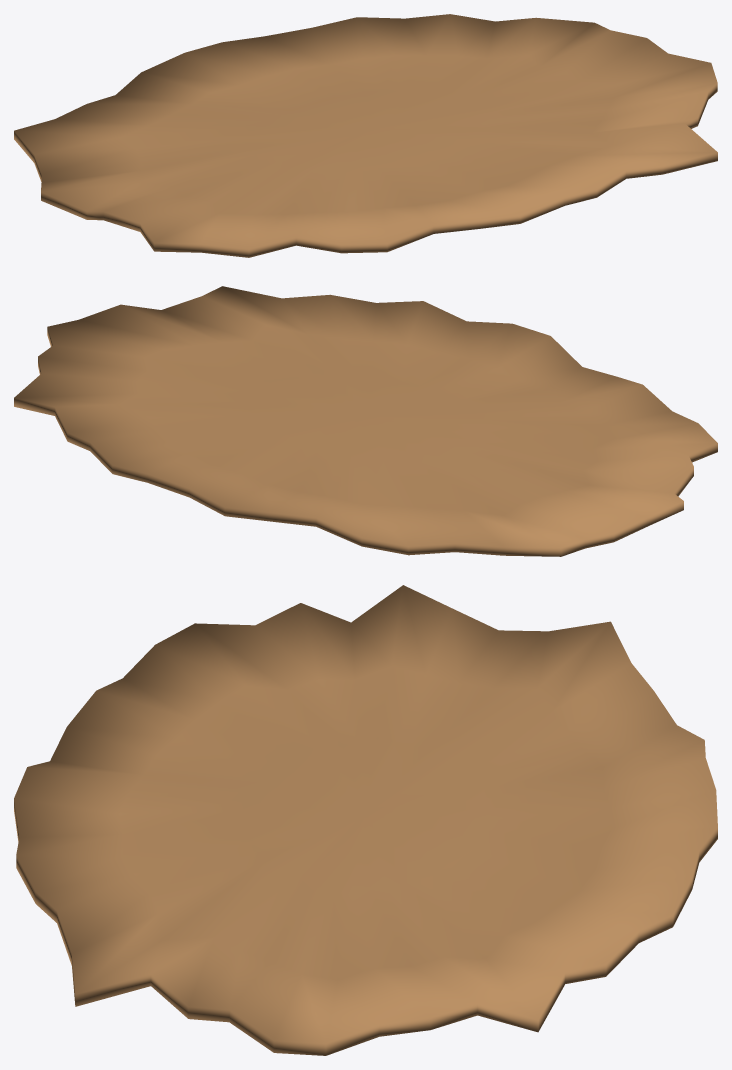
The model's file is w3d_pelt_cured_hide_s.glb.
3 views of the same model, one above another, from view 1: azimuth 30°, elevation 25°; view 2: azimuth 150°, elevation 25°; view 3: azimuth 270°, elevation 25° (orthographic). The views are drawn at different scales.
Parts seen in each view (by area): view 1: w3d_pelt_cured_hide_s; view 2: w3d_pelt_cured_hide_s; view 3: w3d_pelt_cured_hide_s.
Boxes of the visible parts, x1,y1,x2,y2 form: w3d_pelt_cured_hide_s: [14, 14, 717, 257]; w3d_pelt_cured_hide_s: [14, 286, 717, 556]; w3d_pelt_cured_hide_s: [14, 585, 717, 1055].
Bounding box in the file's own units: 0.7007 × 0.0253 × 0.4661.
